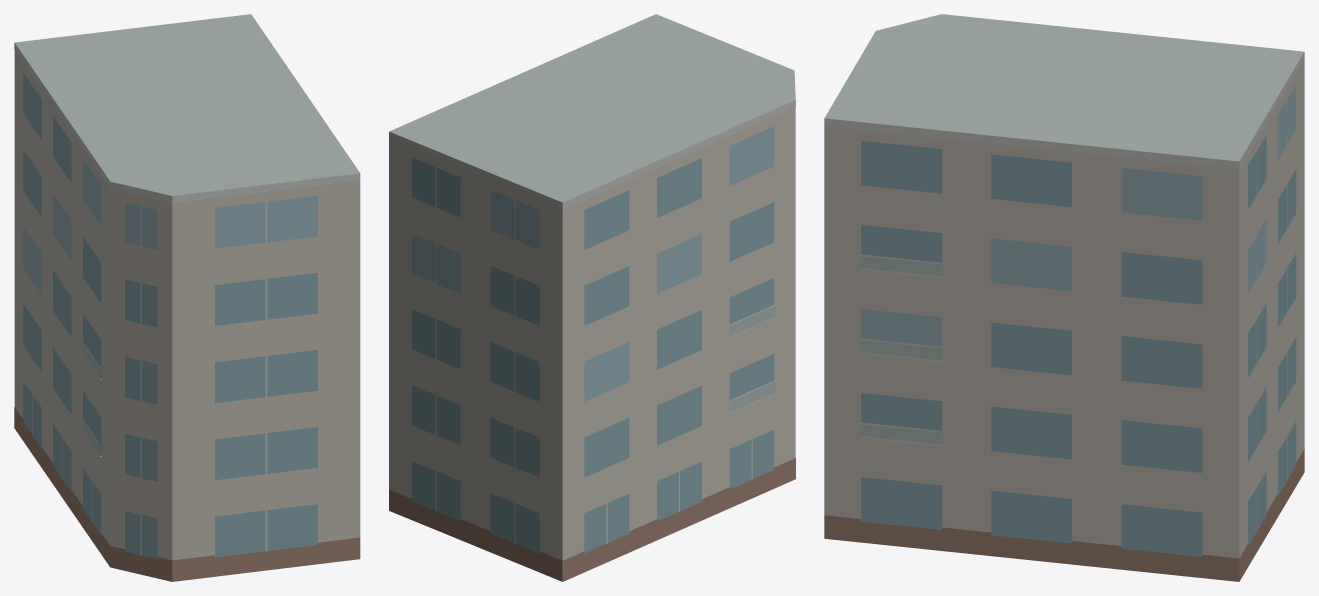
The model's file is survey-upis-32872303.glb.
The picture shows the model from 3 angles, left to right: view 1: azimuth 30°, elevation 25°; view 2: azimuth 150°, elevation 25°; view 3: azimuth 270°, elevation 25°; orthographic projection. The views are drawn at different scales.
Visible parts, largest first — view 1: survey-upis-32872303.tmp; view 2: survey-upis-32872303.tmp; view 3: survey-upis-32872303.tmp.
Boxes of the visible parts, bbox=[...] form: survey-upis-32872303.tmp: bbox=[14, 14, 360, 581]; survey-upis-32872303.tmp: bbox=[389, 14, 795, 581]; survey-upis-32872303.tmp: bbox=[824, 14, 1304, 581].
Size of the model in its own units: 9.9 by 13.15 by 13.63.
